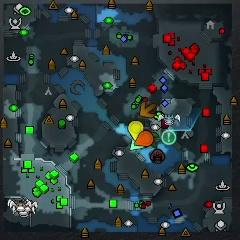Other: (162, 130, 176, 145)
p2: (129, 138, 144, 151)
p4: (128, 120, 144, 141)
p5: (134, 130, 153, 147)
x4: (149, 132, 158, 148)
x5: (139, 102, 157, 118)
